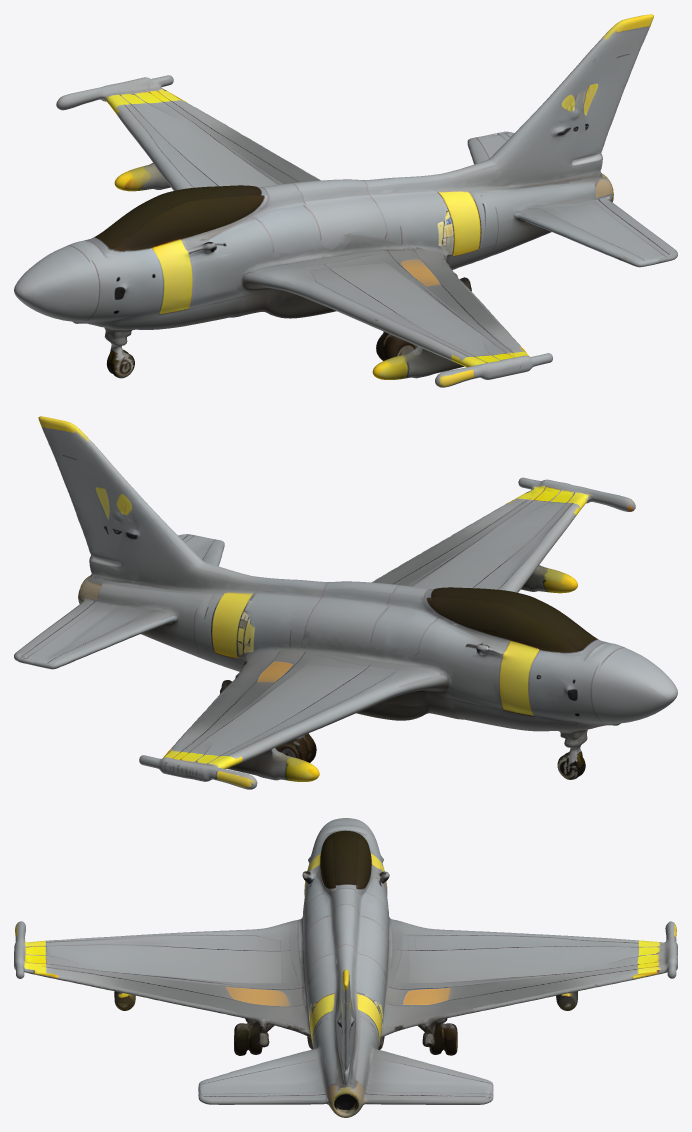
The model's file is airplane.glb.
The picture shows the model from 3 angles, top to bottom: view 1: azimuth 30°, elevation 25°; view 2: azimuth 150°, elevation 25°; view 3: azimuth 270°, elevation 25°; orthographic projection. The views are drawn at different scales.
Parts seen in each view (by area): view 1: mesh_uvwarp.002; view 2: mesh_uvwarp.002; view 3: mesh_uvwarp.002.
Boxes of the visible parts, x1,y1,x2,y2 form: mesh_uvwarp.002: (14,14,677,387); mesh_uvwarp.002: (14,416,677,789); mesh_uvwarp.002: (14,818,677,1117).
Bounding box in the file's own units: 1.9 × 0.6723 × 1.99.
1 material, 1 textured.
